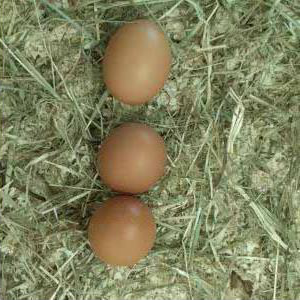egg: (102, 20, 171, 105), (98, 123, 168, 195), (86, 196, 156, 268)
